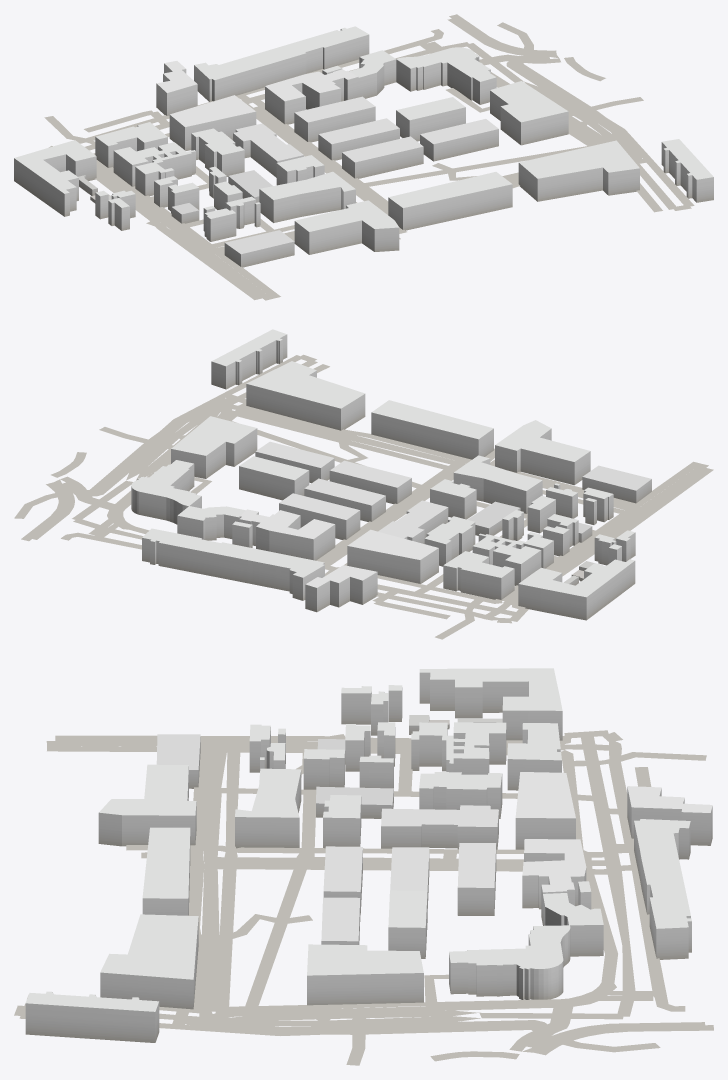
The model's file is Blockout_Test_01.fbx.
3 views of the same model, one above another, from view 1: azimuth 30°, elevation 25°; view 2: azimuth 150°, elevation 25°; view 3: azimuth 270°, elevation 25° (orthographic). The views are drawn at different scales.
Parts seen in each view (by area): view 1: Blockout_Test_01; view 2: Blockout_Test_01; view 3: Blockout_Test_01.
Boxes of the visible parts, x1,y1,x2,y2 form: Blockout_Test_01: [14, 14, 713, 300]; Blockout_Test_01: [14, 329, 713, 639]; Blockout_Test_01: [14, 668, 713, 1065].
Size of the model in its own units: 505 by 21 by 406.
